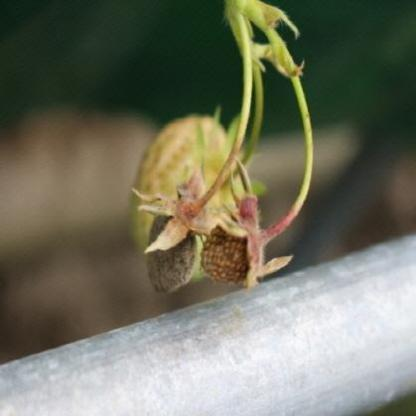Strawberry_Gray_Mold: (129, 170, 216, 296)
